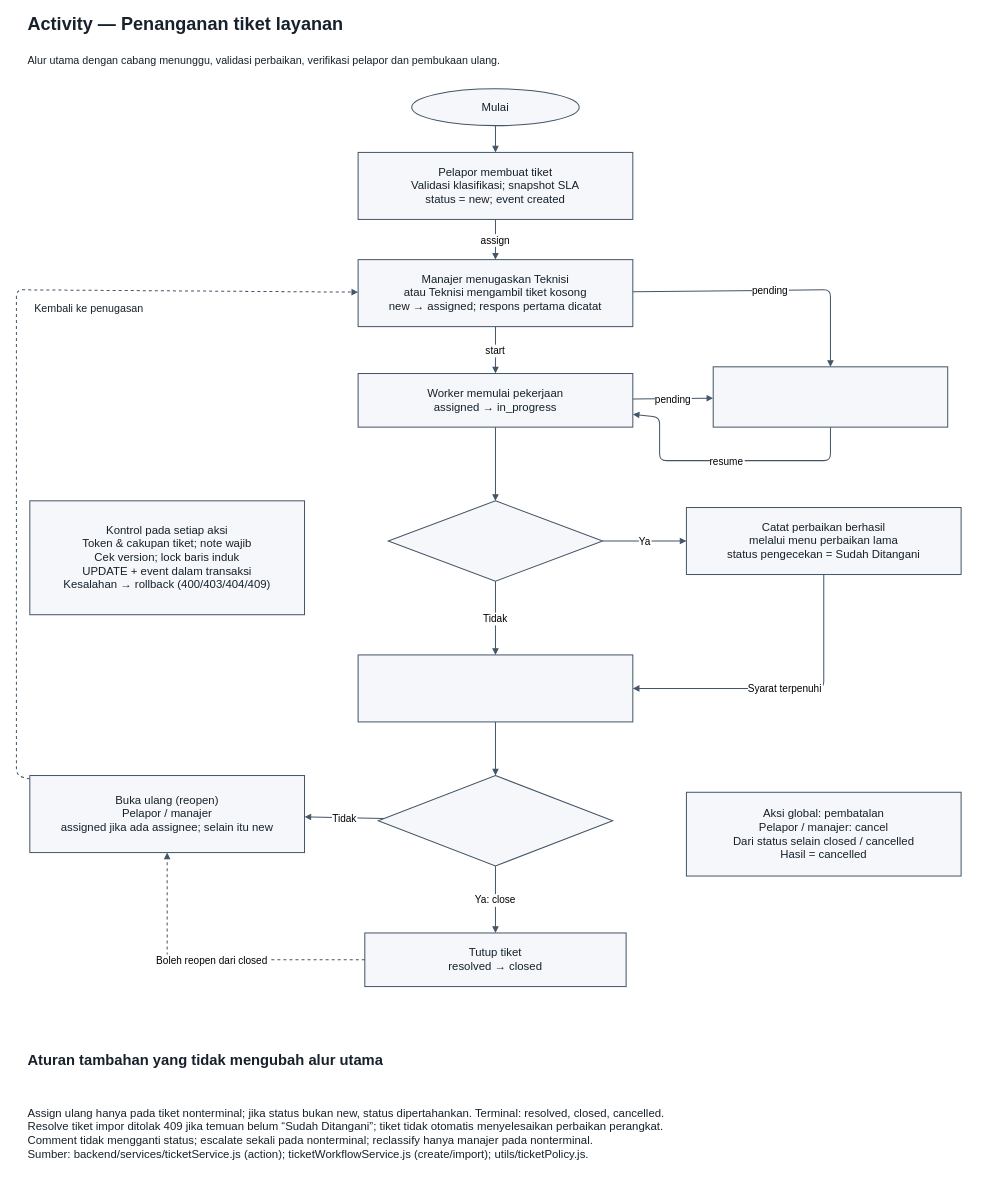
This 996x1195 diagram has some shape labels left out. Here are the shapes that lost their labels. From the top down, the centre of each, then its label:
the point at 830,396: Menunggu (pending) SLA tetap berjalan 24×7
the point at 495,540: Tiket terhubung pengecekan?
the point at 495,688: Worker menyelesaikan tiket (resolve) Wajib isi resolution in_progress → resolved
the point at 495,820: Pelapor independen atau manajer menyetujui solusi?
